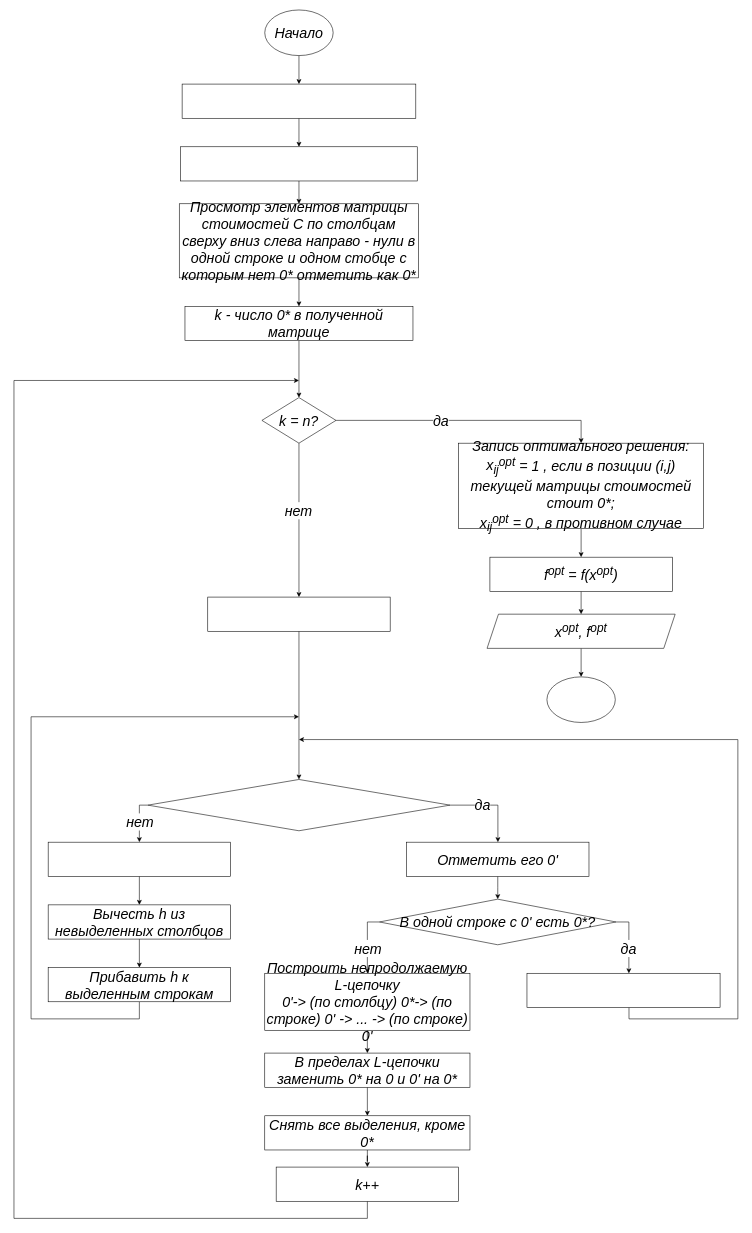
The diagram is 752 pixels wide and 1233 high, and some of its shapes have lost their labels. Here are the shapes that lost their labels. From the top down, the centre of each, then its label:
At (299,101): "Вычесть из каждого столбца м-цы стоимостей С его наименьший элемент".
At (298,163): "Вычесть из каждой строки м-цы стоимостей С её наименьший элемент".
At (298,614): "Выделить столбцы с 0* +".
At (580,699): "Конец".
At (298,805): "Среди невыделенных элементов есть 0?".
At (139,859): "h - минимальный ненулевой элемент из невыделенных".
At (623,990): "Перенести выделения столбца с 0* на строку с 0'".
